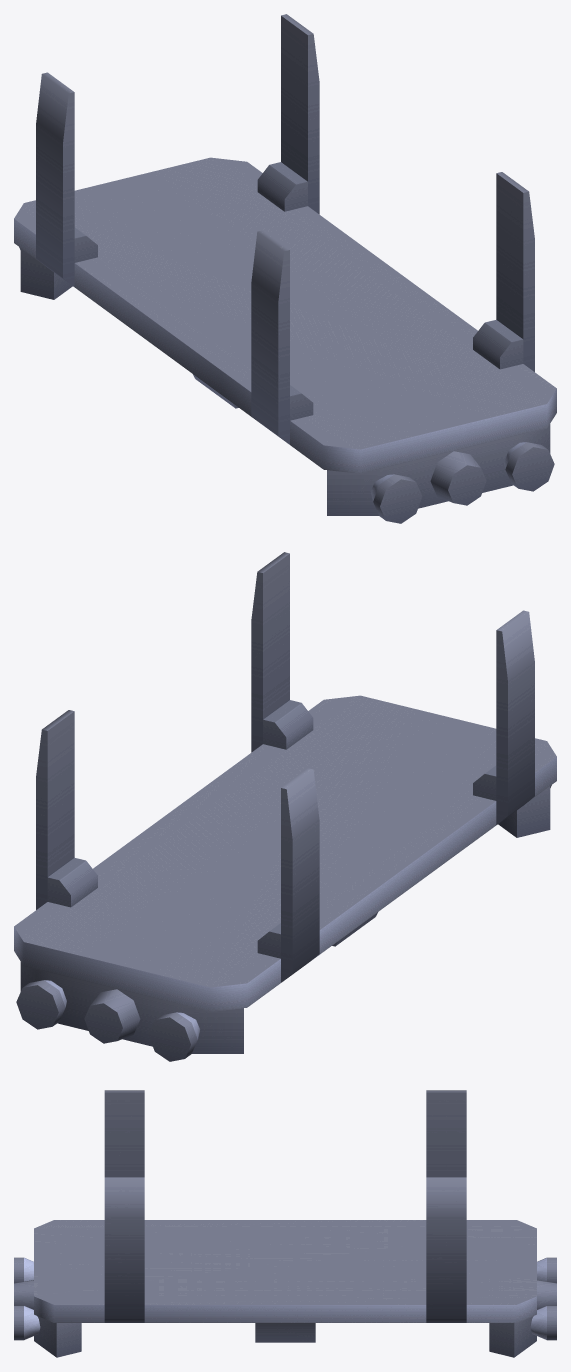
Rendered from train-carriage-lumber_lev2.glb.
The picture shows the model from 3 angles, top to bottom: view 1: azimuth 30°, elevation 25°; view 2: azimuth 150°, elevation 25°; view 3: azimuth 270°, elevation 25°; orthographic projection. The views are drawn at different scales.
Parts seen in each view (by area): view 1: train-carriage-lumber_lev2; view 2: train-carriage-lumber_lev2; view 3: train-carriage-lumber_lev2.
Part boxes in pixels (bbox=[...]): train-carriage-lumber_lev2: bbox=[14, 14, 556, 523]; train-carriage-lumber_lev2: bbox=[14, 552, 556, 1061]; train-carriage-lumber_lev2: bbox=[14, 1090, 556, 1357].
Size of the model in its own units: 1.1 by 1 by 2.7.
Materials: 1 (1 with a texture image).
